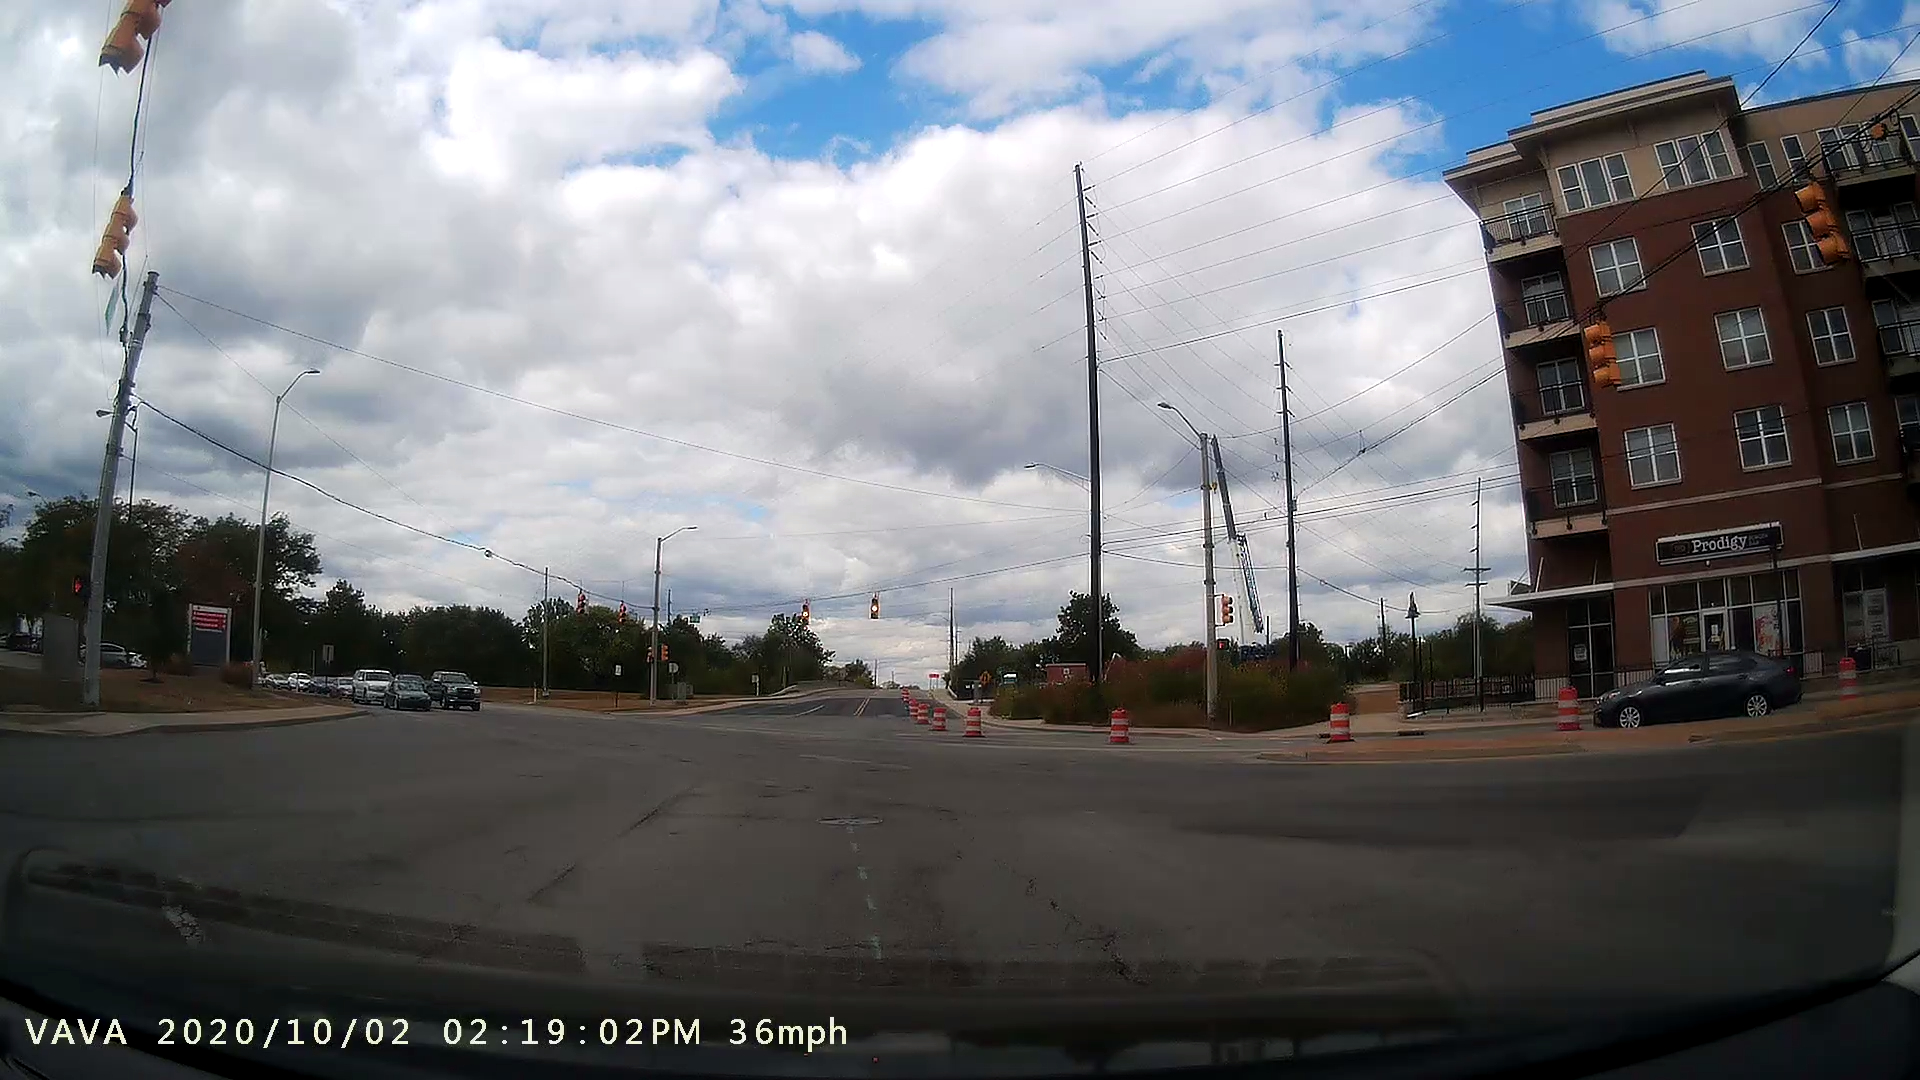const_barrel: (1539, 673, 1586, 742), (1313, 691, 1360, 748), (1098, 694, 1139, 756), (956, 698, 988, 746)
